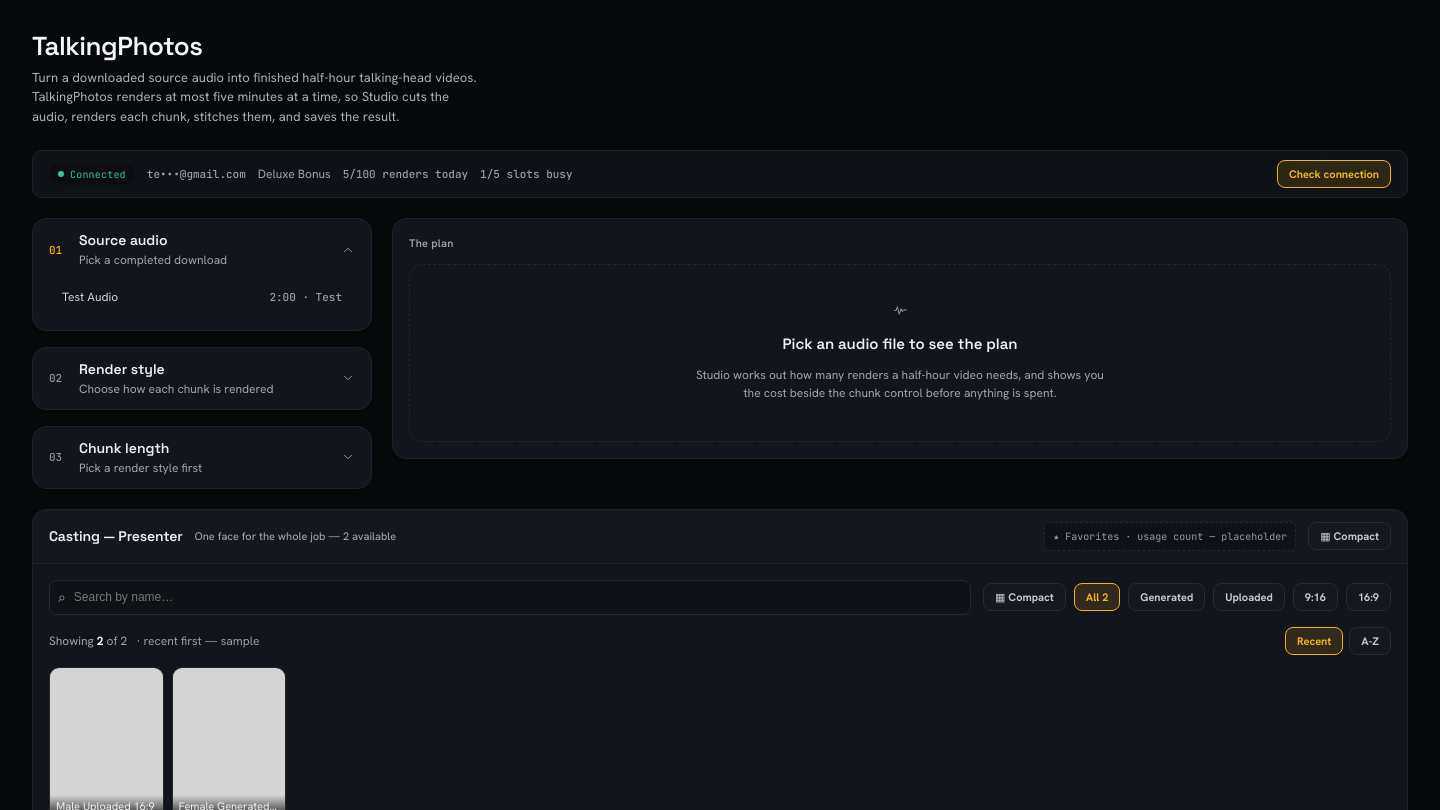
Scenario: attached badge — uploaded kind shows proof › shows Attached badge with mediaId when uploaded presenter selected
What coordinates should you click on to do the following:
click the button with class "tp-step-head" that starts with "Render style"
I would click on:
 (202, 378)
Its box is [33, 348, 371, 409].
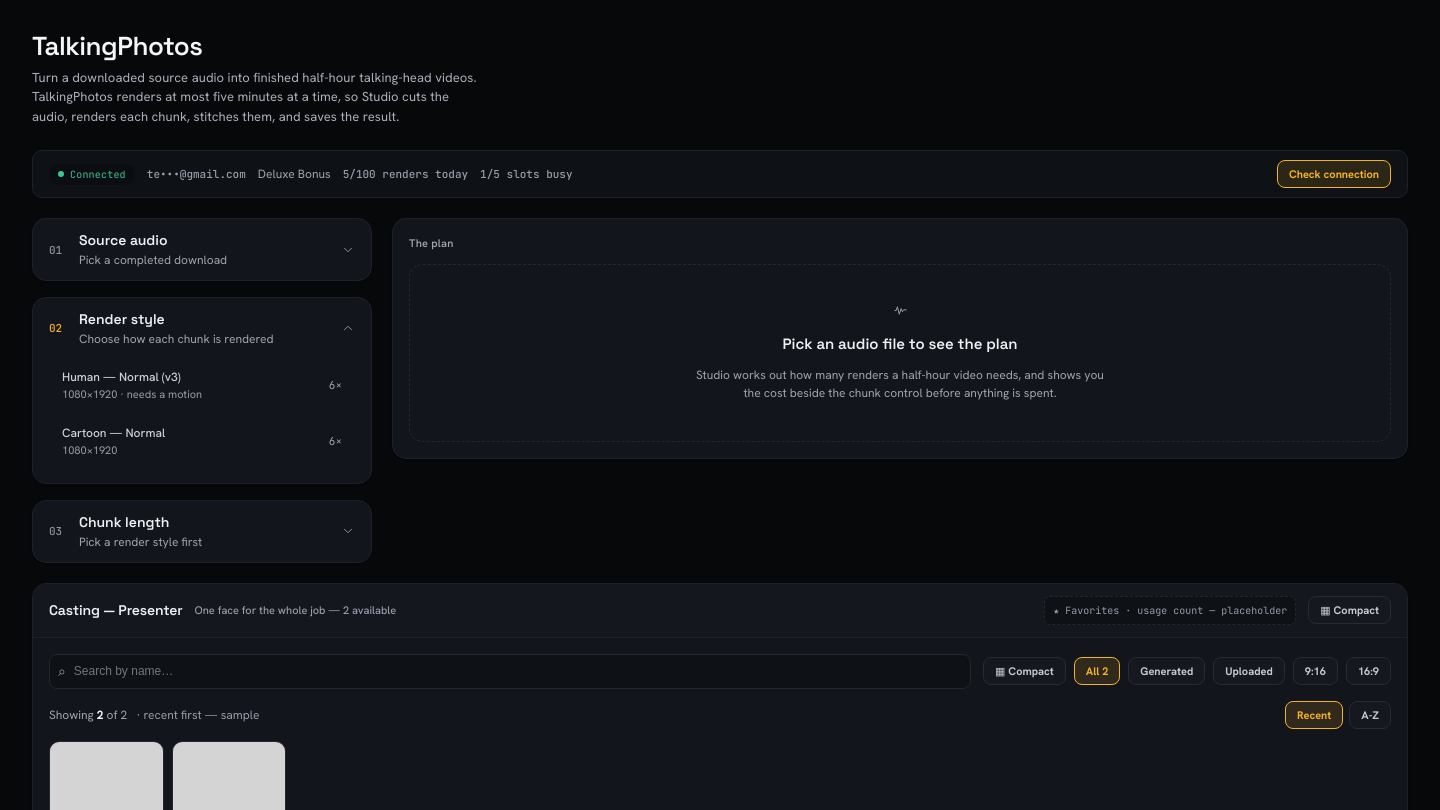
What coordinates should you click on to do the following:
click the button with class "tp-feature" that starts with "Human — Normal (v3)"
I would click on:
 (202, 385)
Its box is [49, 359, 355, 411].
(page scrolled)
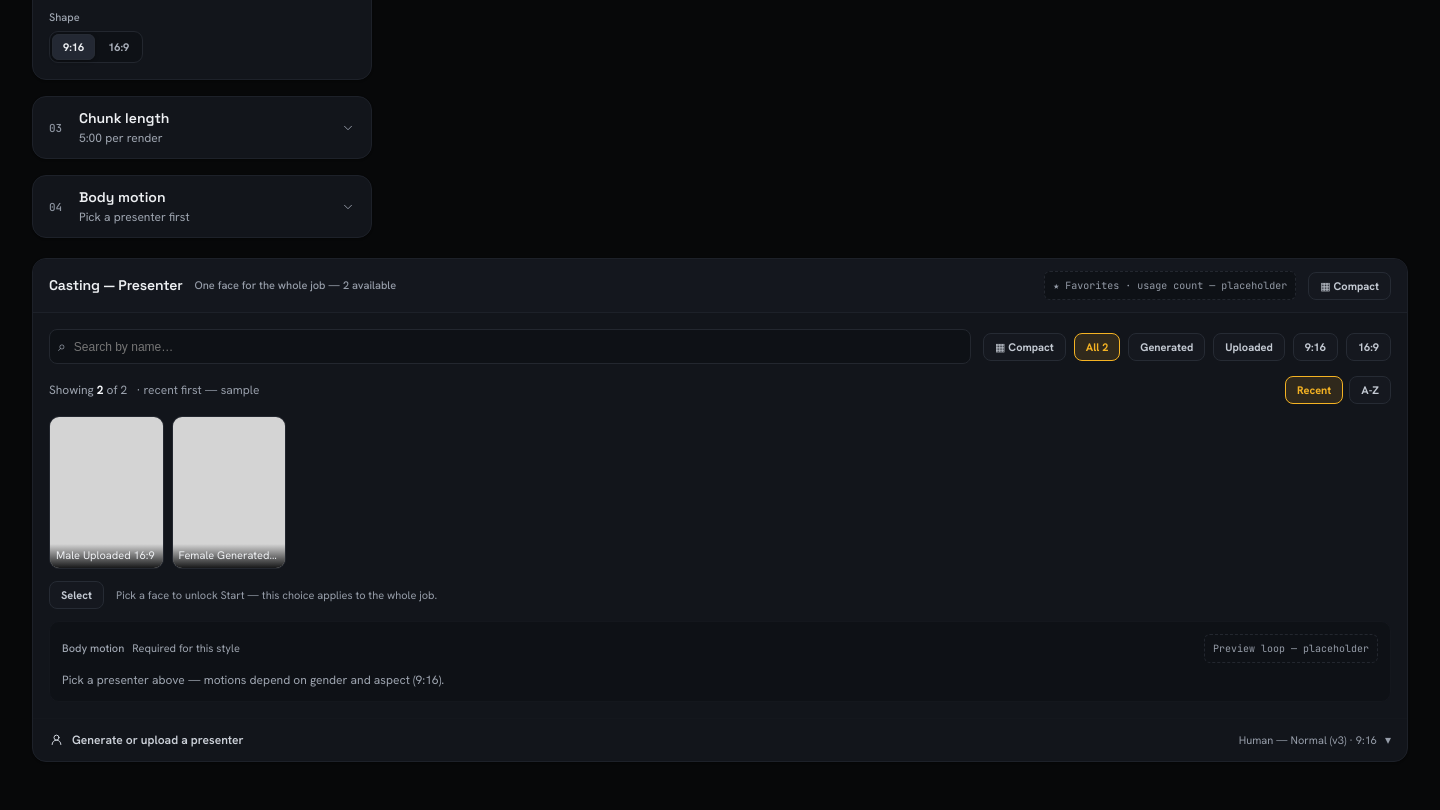
What coordinates should you click on to do the following:
click the cell with class "tp-char" showing "Male Uploaded 16:9"
I would click on:
 (106, 493)
Its box is [49, 416, 164, 569].
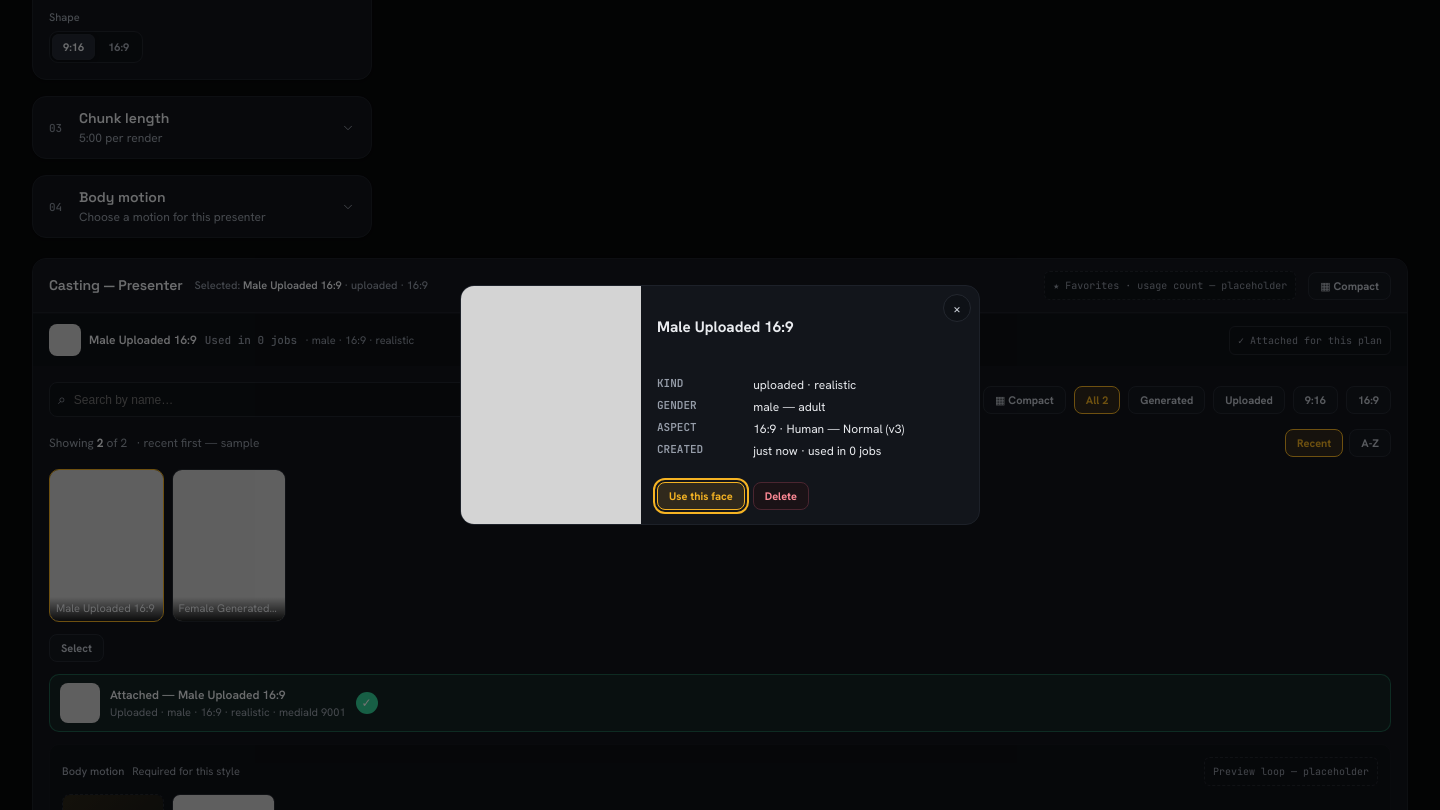
Expected: the message with class "tp-attached" shows "Attached", [110, 687, 178, 703]
Expected: the message with class "tp-attached" shows "mediaId 9001", [49, 674, 1391, 732]
Expected: the message with class "tp-attached" shows "✓", [362, 695, 372, 711]
